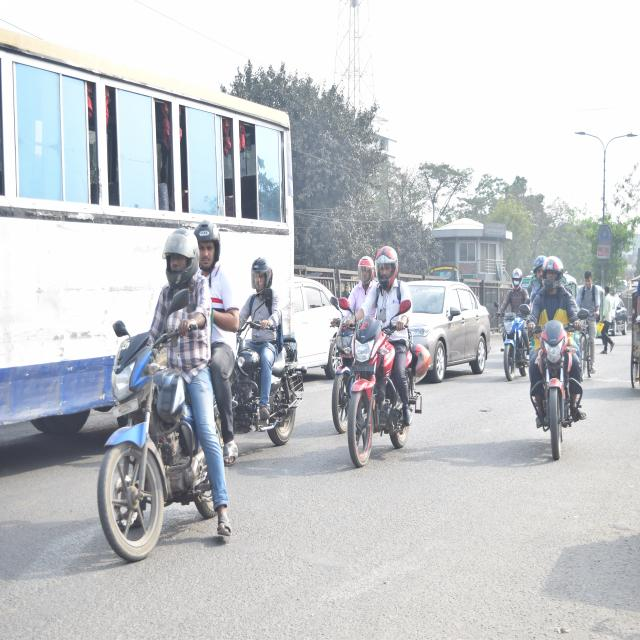bus: (0, 50, 299, 429)
car: (412, 269, 485, 391), (603, 294, 630, 347)
motorbike: (94, 306, 220, 555), (339, 298, 418, 464), (521, 284, 588, 464), (229, 302, 302, 453), (319, 300, 357, 439), (489, 276, 527, 386)
